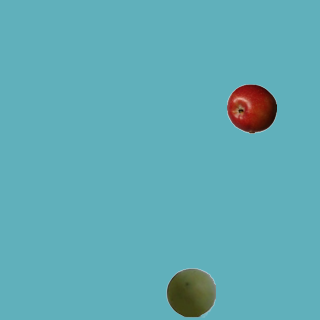Apple Braeburn: (226, 83, 276, 133)
Grape White 4: (165, 267, 215, 317)
